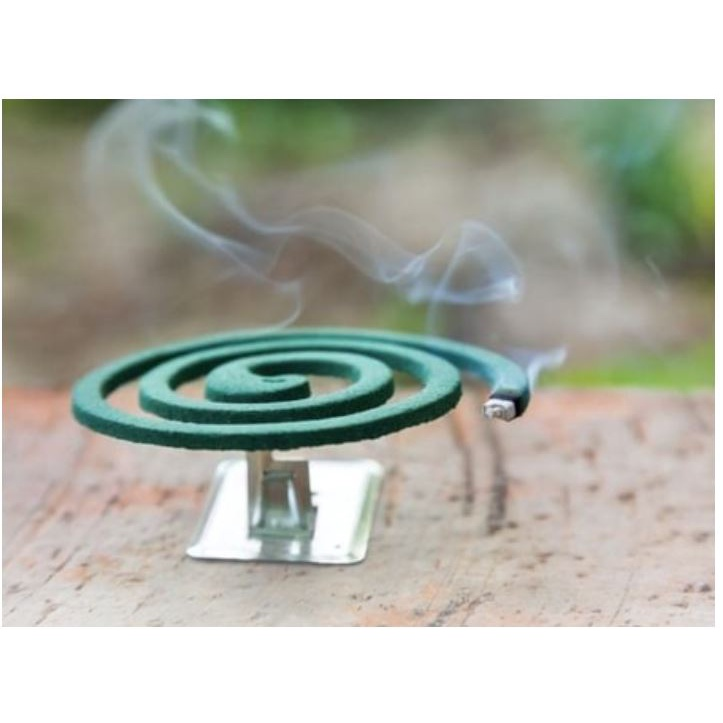Open-Flame-Hazard: (39, 275, 556, 578)
